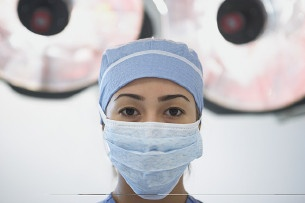Mask: (100, 90, 204, 194)
